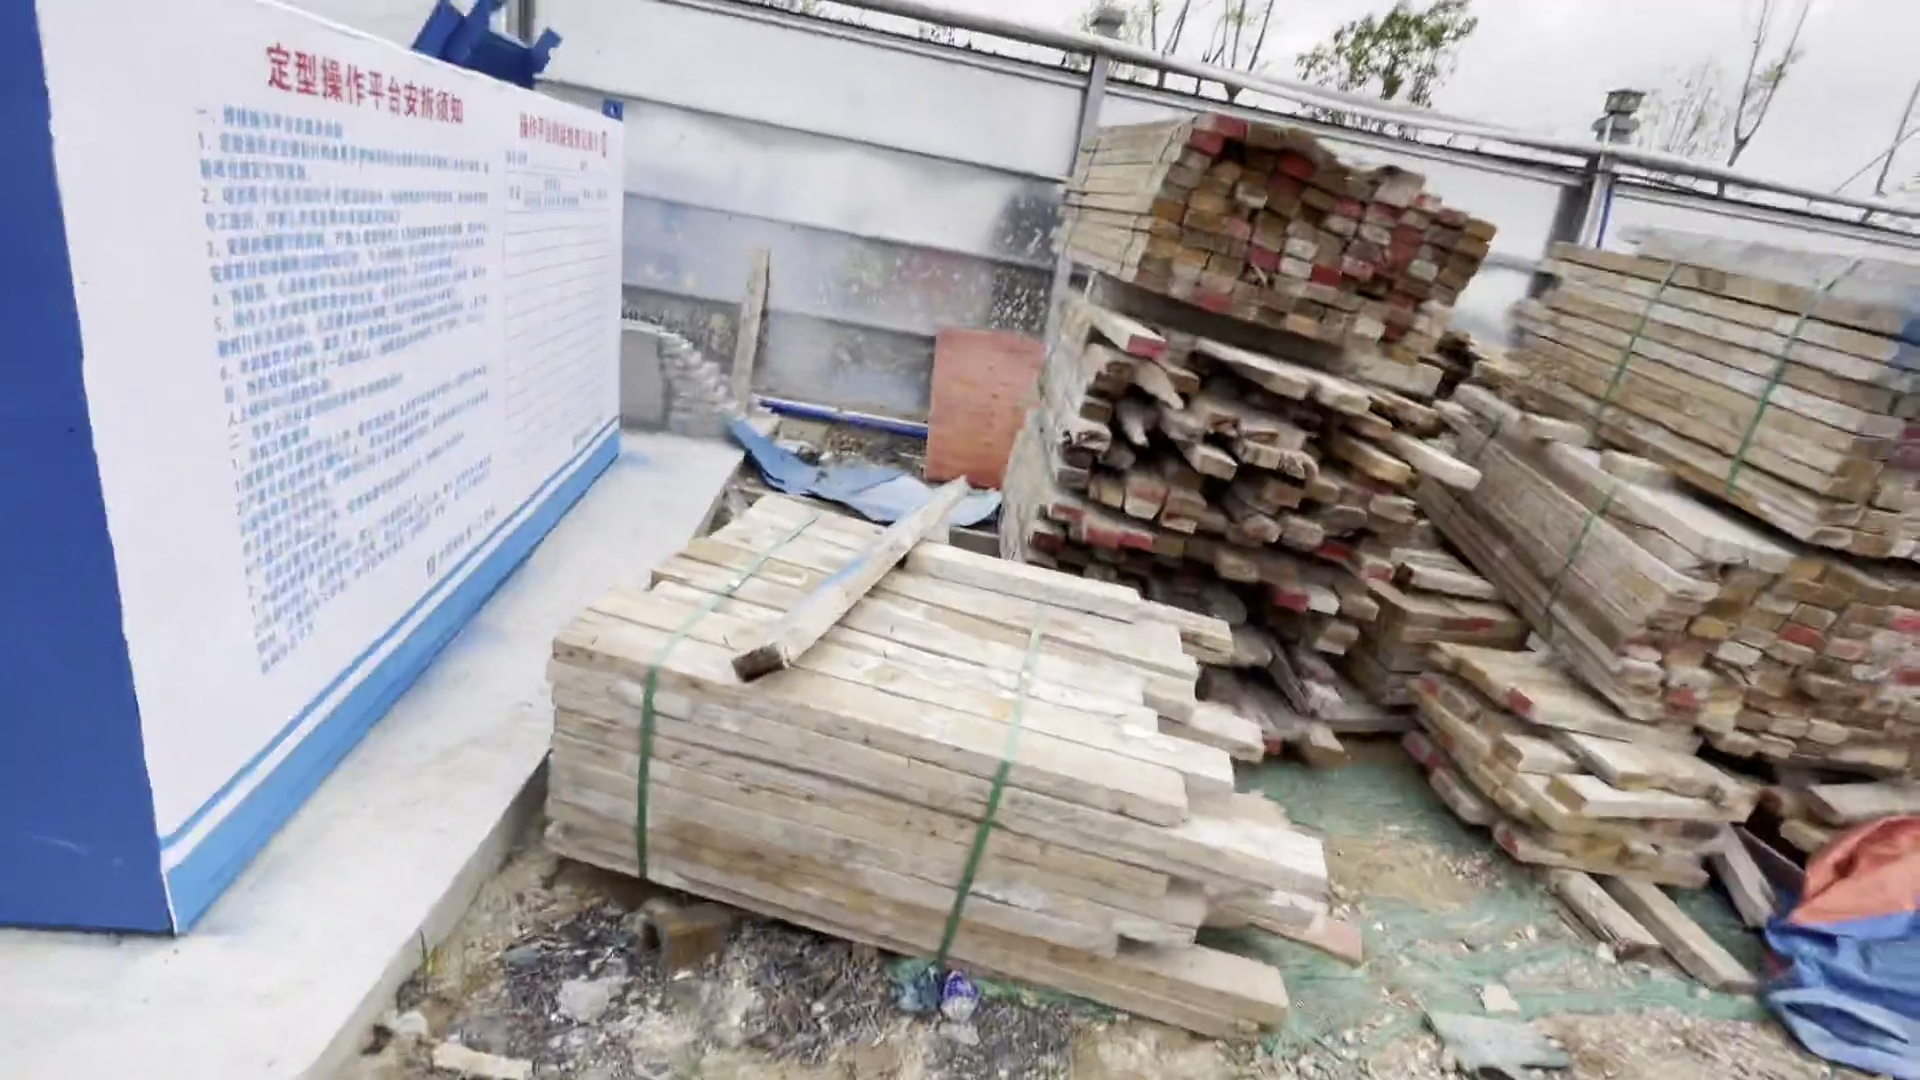wood: (578, 489, 1346, 1029), (1464, 190, 1920, 843), (1042, 117, 1476, 771)
